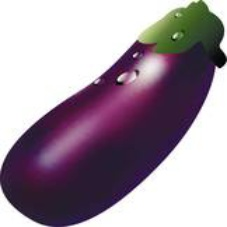eggplant: (1, 17, 222, 226)
